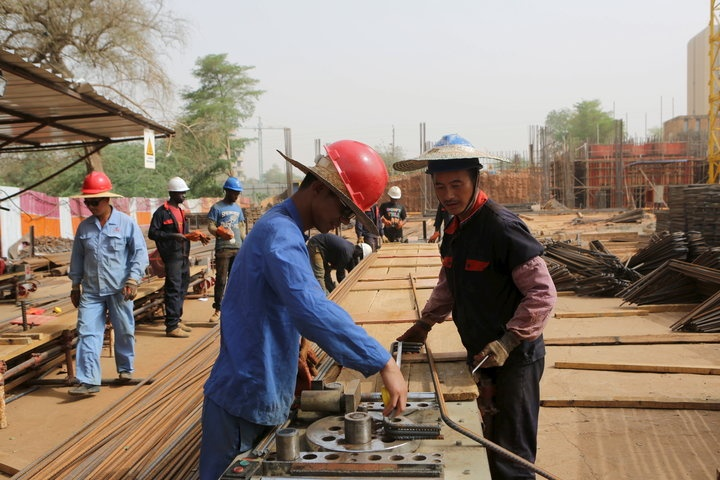blue: (221, 176, 243, 204)
none: (421, 131, 485, 220)
red: (285, 133, 378, 234), (79, 172, 115, 218)
white: (166, 173, 188, 203)
